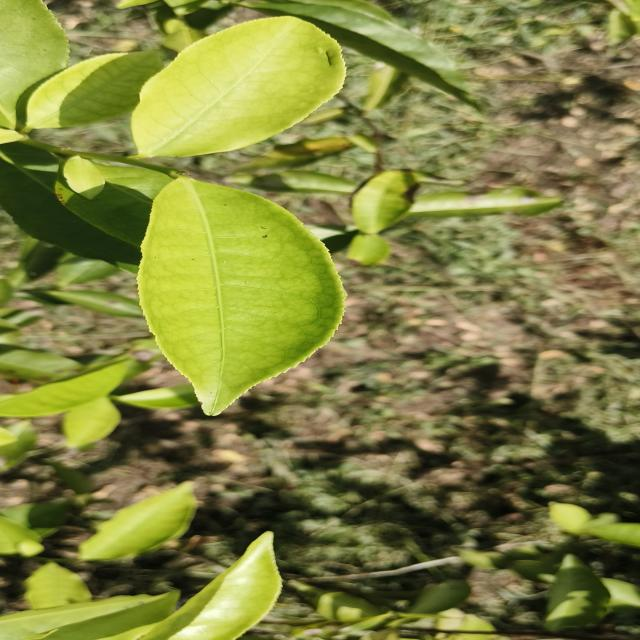Leaf: (137, 178, 344, 415), (138, 178, 344, 415), (131, 17, 345, 158), (241, 0, 476, 106), (0, 142, 140, 262), (140, 532, 281, 640), (27, 51, 163, 131), (55, 165, 173, 247), (79, 482, 196, 560), (0, 0, 69, 129), (0, 591, 179, 640), (0, 361, 127, 417), (544, 554, 610, 631), (409, 187, 560, 218), (351, 170, 418, 234), (289, 580, 387, 621), (25, 562, 92, 609), (0, 345, 81, 383), (62, 396, 121, 448), (231, 170, 356, 194), (45, 290, 142, 317), (0, 501, 68, 537), (111, 383, 198, 408), (409, 581, 470, 614), (56, 257, 119, 287), (63, 156, 105, 199), (0, 516, 43, 557), (607, 0, 640, 45), (588, 520, 640, 547), (549, 502, 592, 534), (348, 234, 390, 265)
